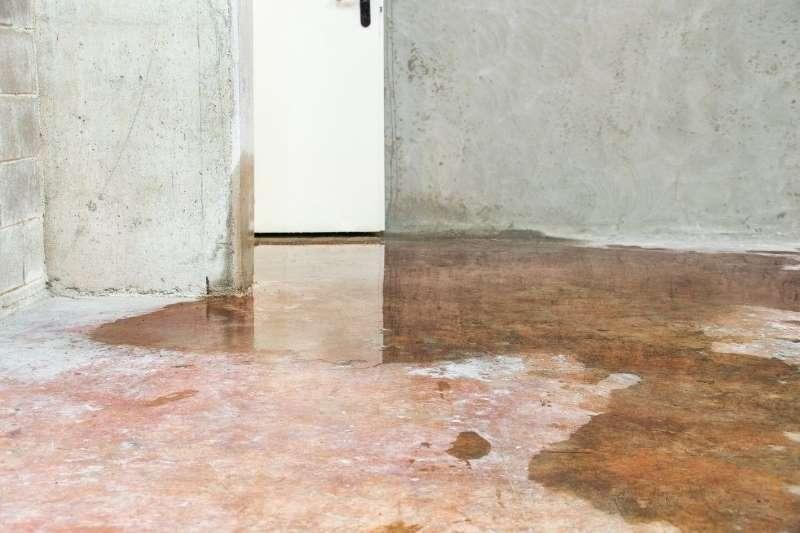water accumulation: (90, 227, 800, 533)
